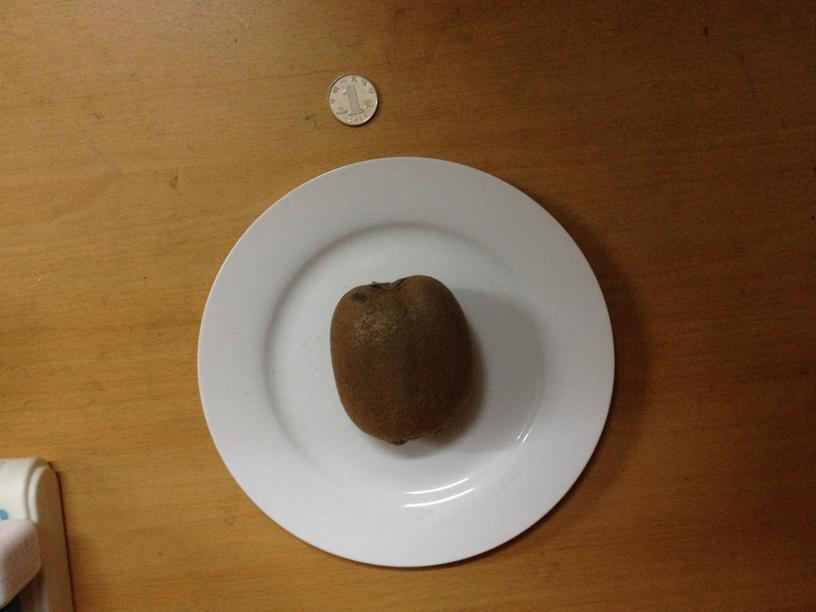coin: (327, 69, 378, 127)
qiwi: (333, 270, 470, 444)
